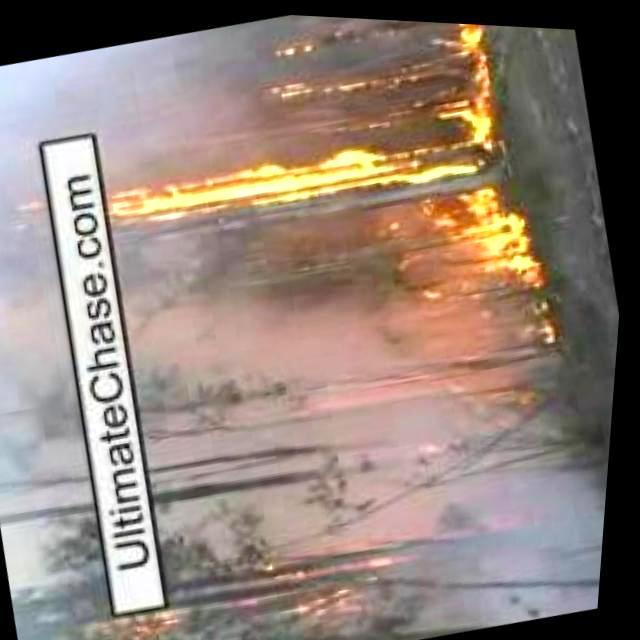fire: (86, 100, 507, 252), (396, 167, 562, 346), (270, 544, 410, 640), (412, 17, 504, 117), (267, 48, 397, 108), (90, 582, 216, 640)
